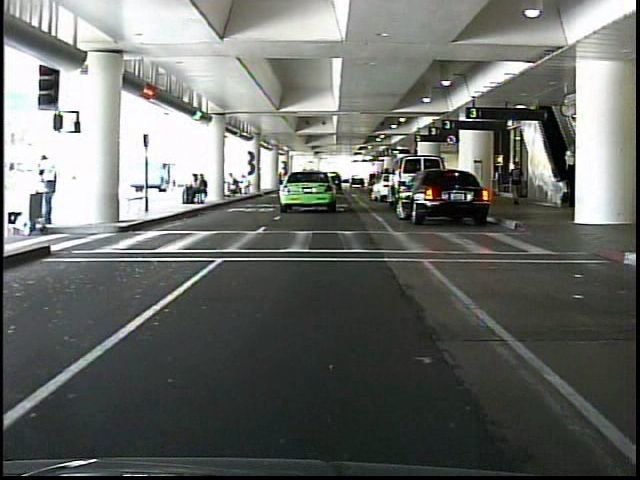person: (32, 152, 65, 229), (507, 157, 526, 209)
